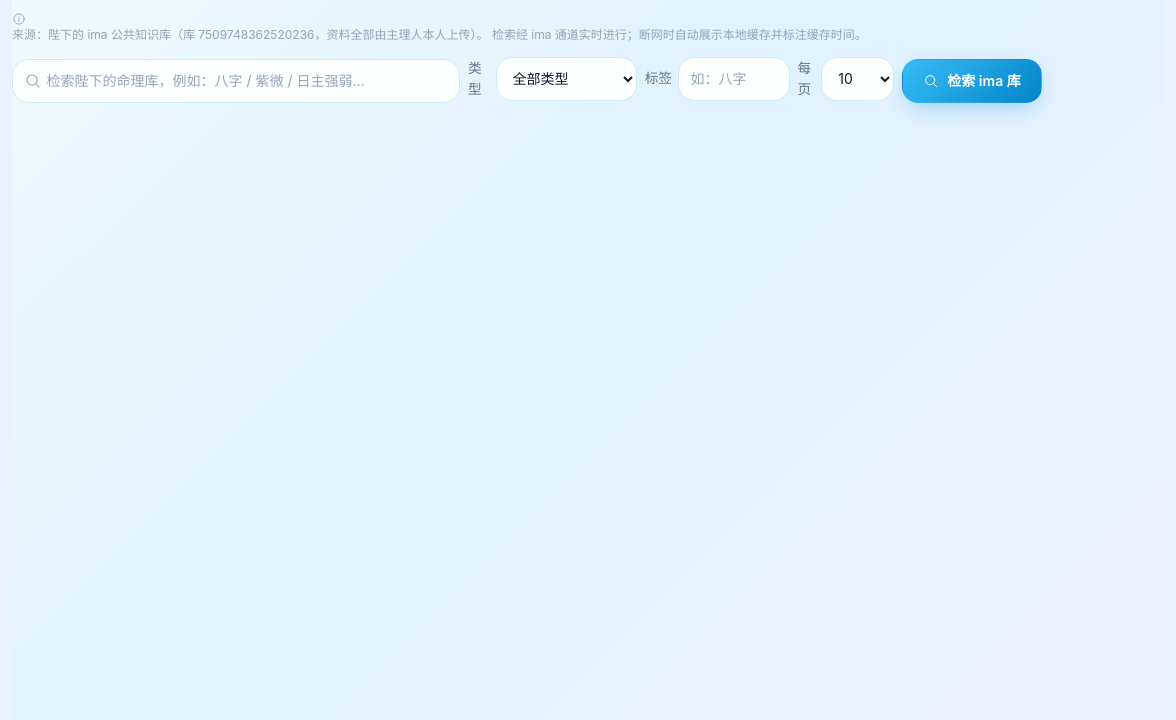
Scenario: ImaPanel › 零命中如实显示空态
Type "不存在" into the field named "ima 检索词" at (236, 81), box [12,59,460,103]
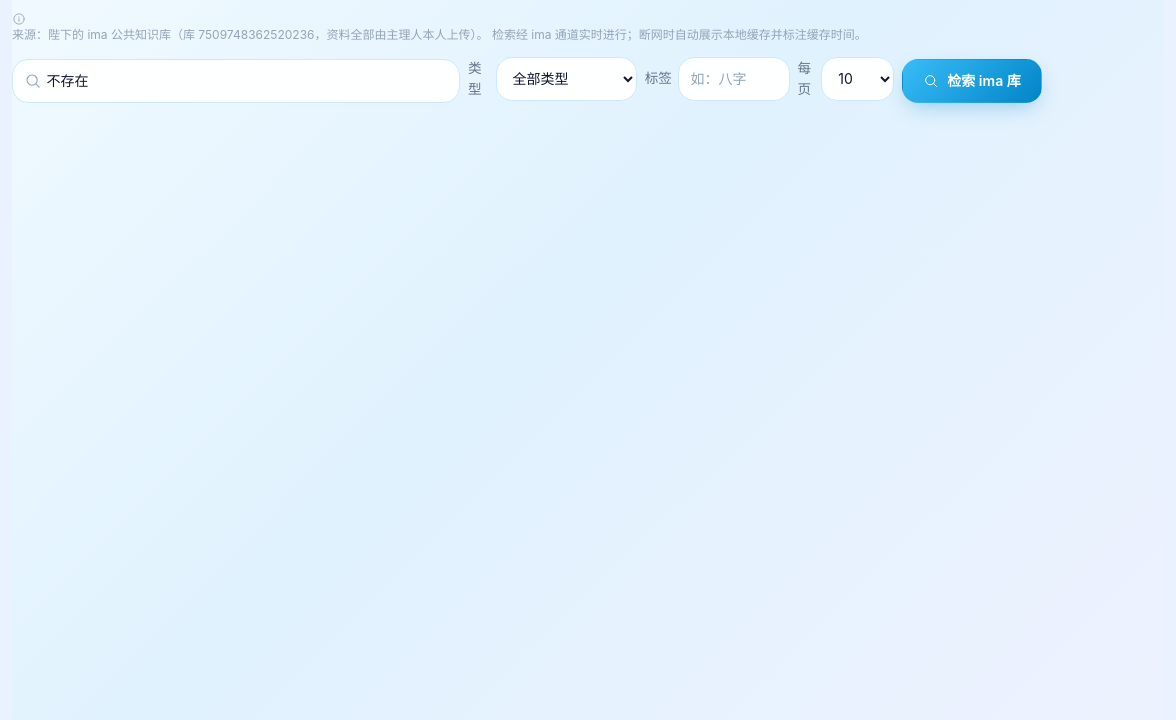
Click the button with test id "ima-search-btn" at (972, 81), box [902,59,1042,103]
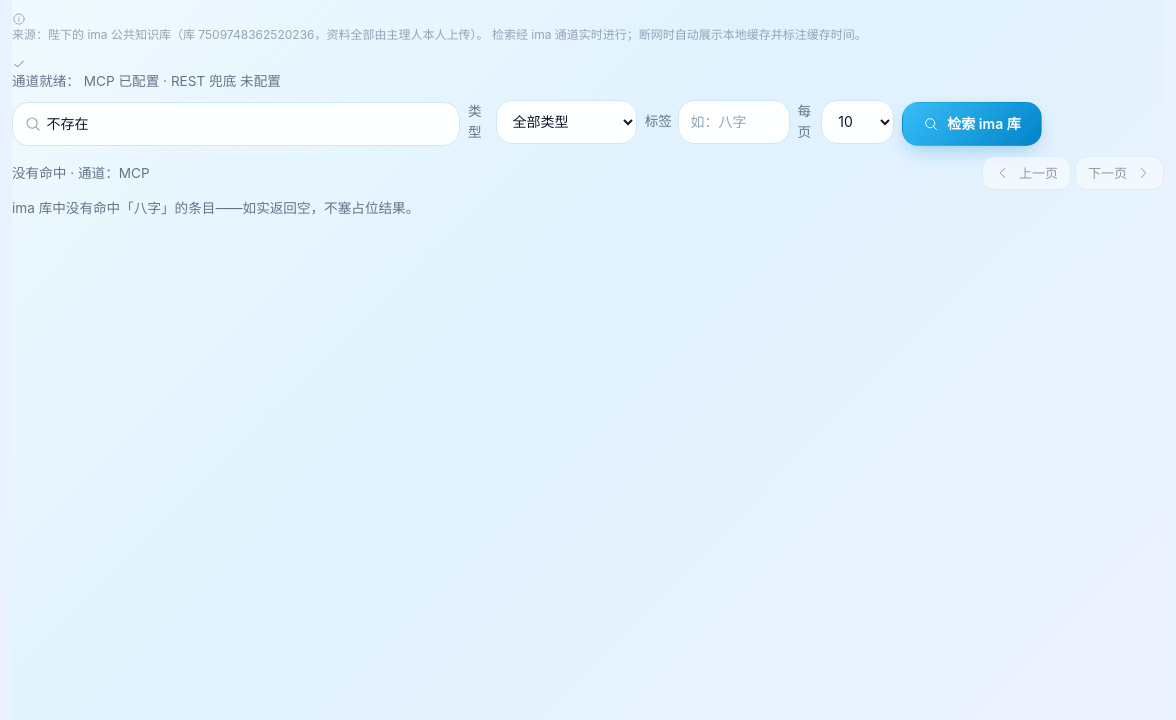
Check: the text "ima 库中没有命中「八字」的条目——如实返回空，不塞占位结果。" is shown, box [12,200,419,216]
